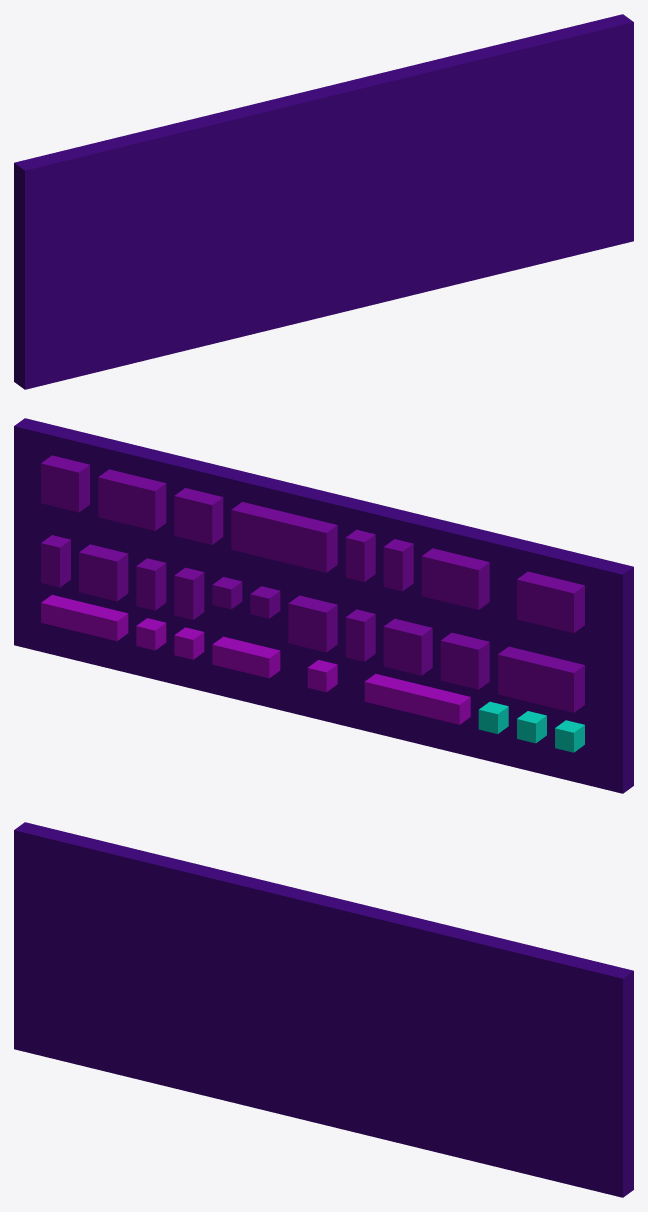
3 views of the same model, one above another, from view 1: azimuth 30°, elevation 25°; view 2: azimuth 150°, elevation 25°; view 3: azimuth 330°, elevation 25° (orthographic).
Bounding box in the file's own units: 1.6 × 0.55 × 0.1.
